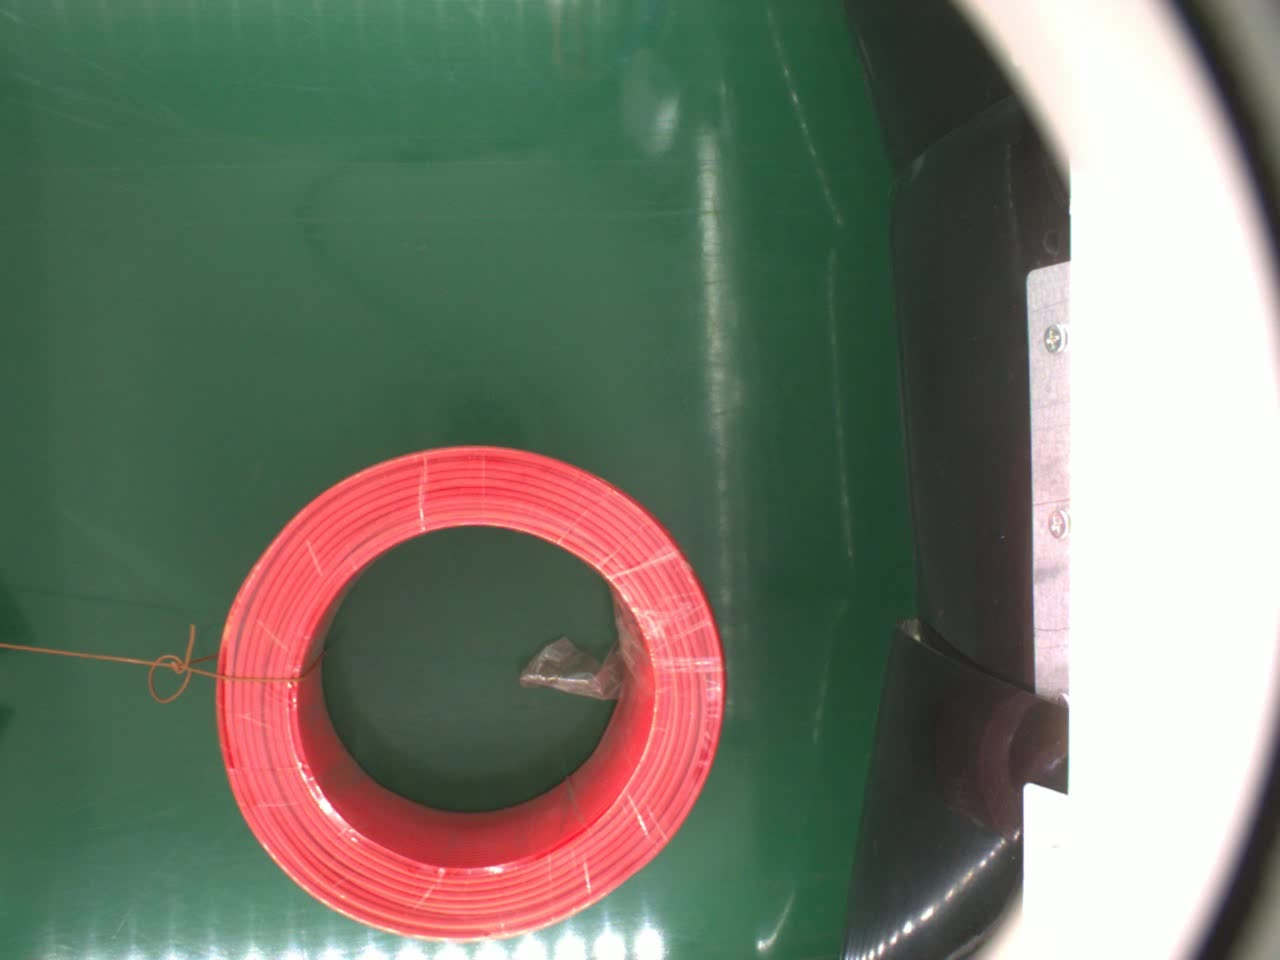red: (213, 437, 733, 940)
